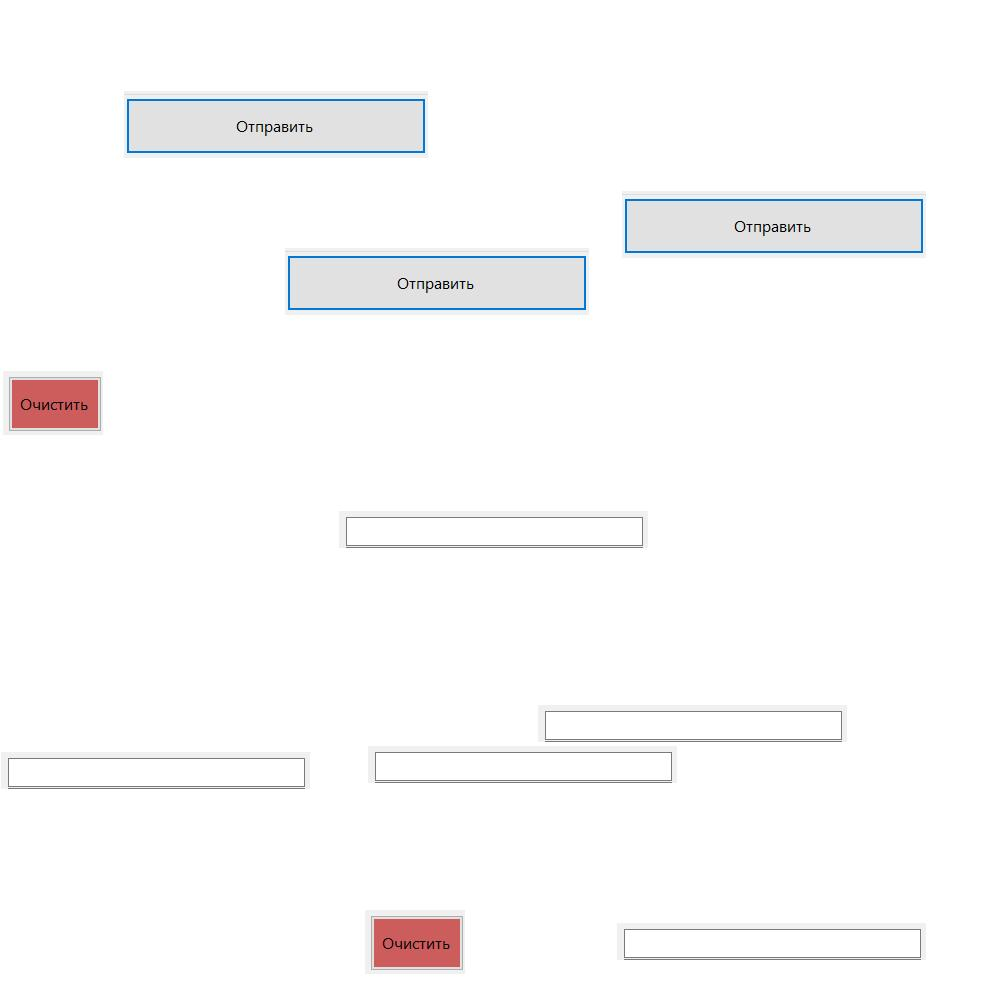Button: (124, 91, 428, 158), (285, 248, 589, 315), (622, 191, 926, 258), (365, 910, 465, 974), (3, 371, 103, 435)
EditText-: (339, 511, 648, 548), (368, 746, 677, 783), (538, 705, 847, 742), (617, 923, 926, 960), (1, 752, 310, 789)
